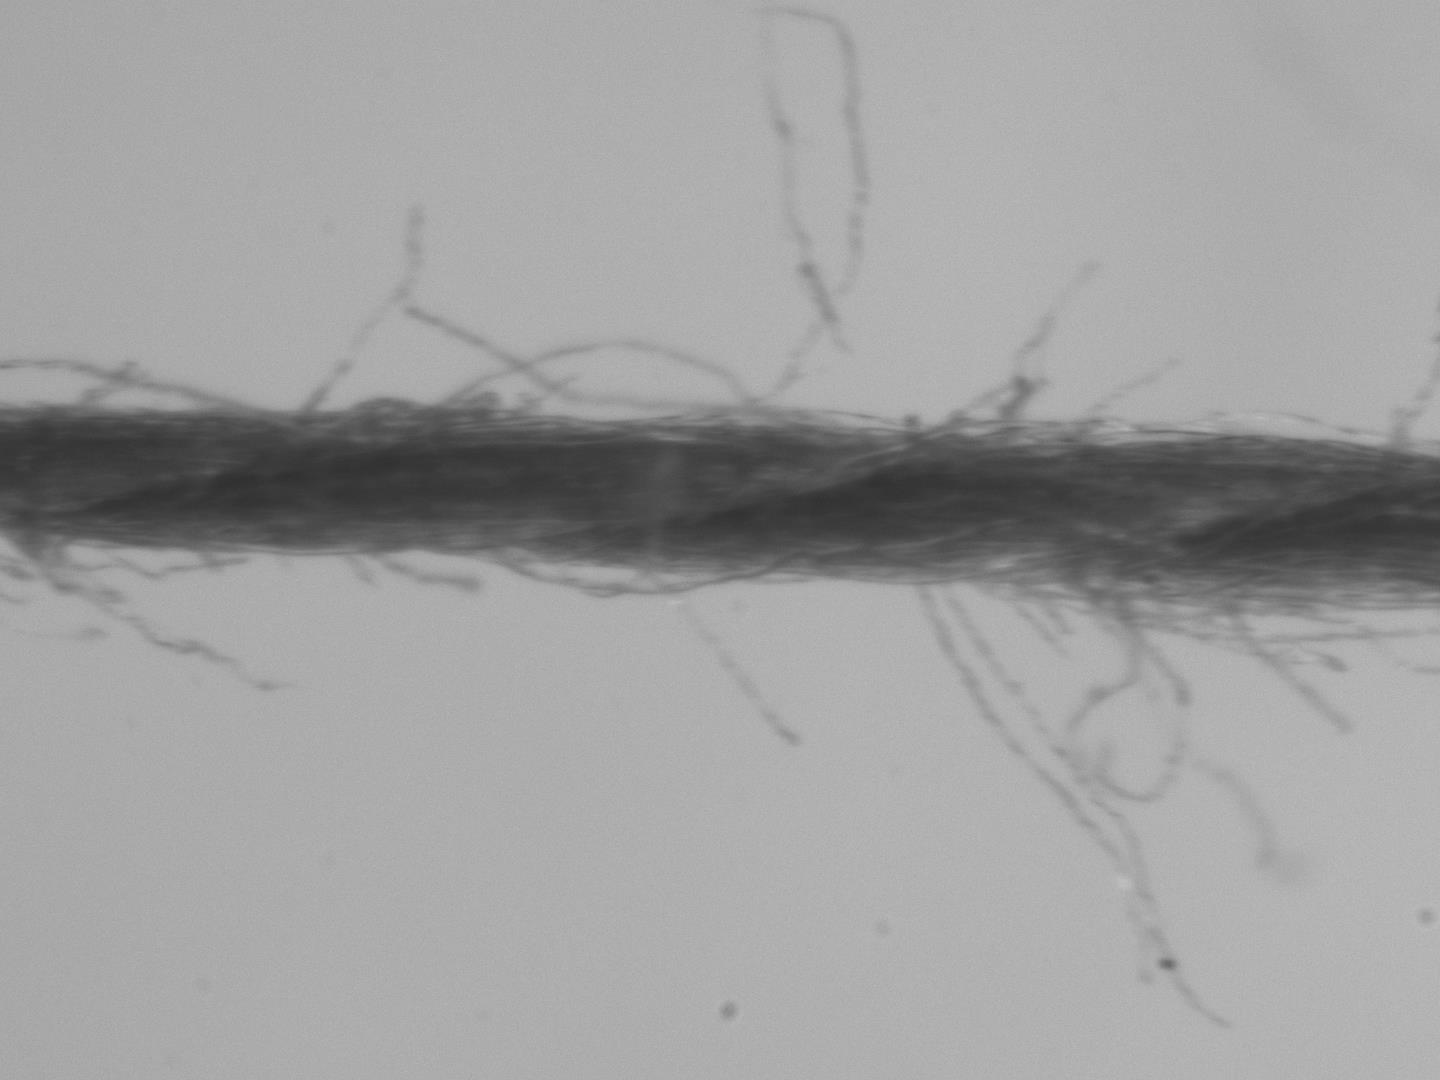loop_fiber: (751, 10, 879, 419), (425, 334, 766, 440), (1062, 588, 1203, 805), (7, 353, 283, 425), (481, 545, 815, 601), (1144, 399, 1439, 457)
protruding_fiber: (942, 576, 1237, 1037), (906, 581, 1159, 992), (9, 533, 298, 698), (410, 311, 813, 422), (634, 568, 823, 756), (283, 187, 435, 413), (1215, 591, 1358, 745), (992, 244, 1108, 432), (1294, 594, 1439, 675), (1075, 345, 1192, 425), (15, 549, 266, 577), (371, 550, 494, 593), (71, 354, 155, 407), (999, 598, 1061, 663), (1041, 590, 1084, 648)
